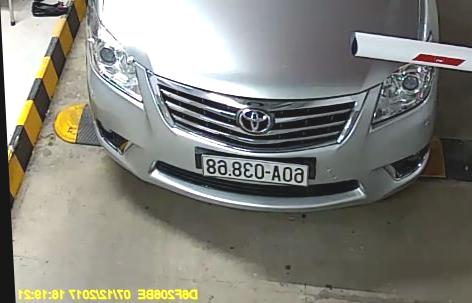License_Plate: (200, 155, 309, 185)
